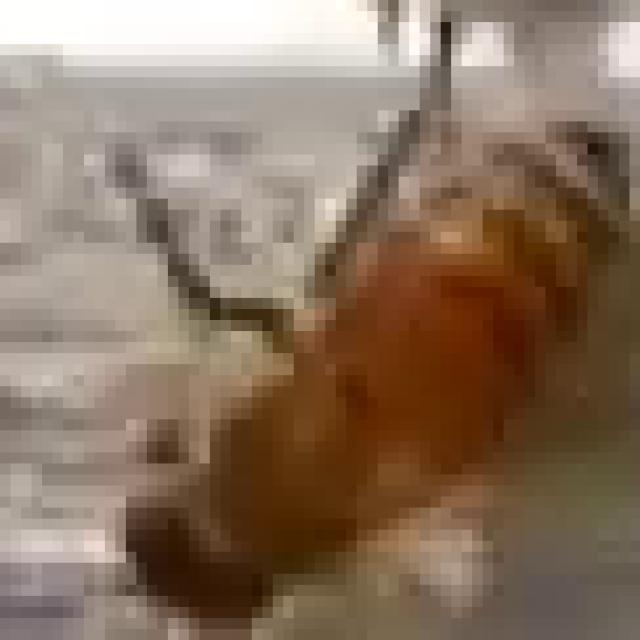honeybee: (104, 120, 590, 636)
